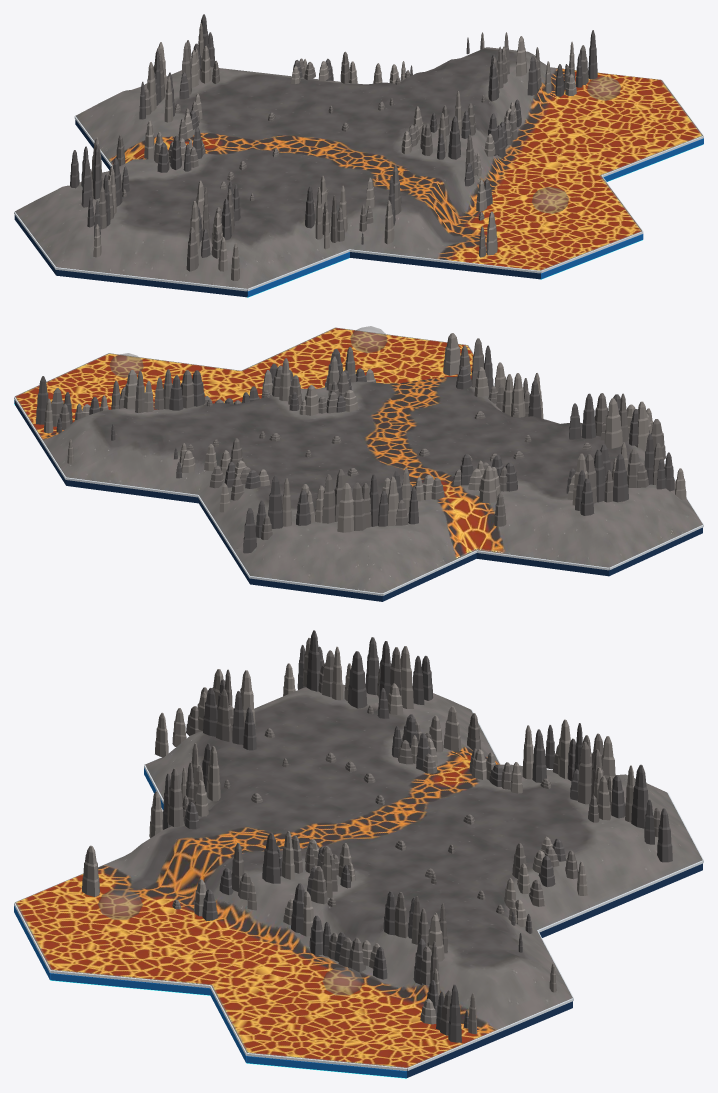
File: field_cm07_01.geometry-r2.glb
3 renders of one model, top to bottom at view 1: azimuth 30°, elevation 25°; view 2: azimuth 150°, elevation 25°; view 3: azimuth 270°, elevation 25°, orthographic. The views are drawn at different scales.
Visible parts, largest first — view 1: field_cm07_01-surface, crags-el-basalt, crags-el-basalt-light, crags-el-basalt-mid, field_cm07_01-foundation, volcano-smoke-0, volcano-rocks-joined, shallow-blue-fascia.003, shallow-blue-fascia.004, shallow-blue-fascia.001, volcano-smoke-1, flush-porcelain-joint.011 (+1 smaller); view 2: field_cm07_01-surface, crags-el-basalt-light, crags-el-basalt, crags-el-basalt-mid, field_cm07_01-foundation, volcano-rocks-joined, volcano-smoke-0, volcano-smoke-1; view 3: field_cm07_01-surface, crags-el-basalt, crags-el-basalt-light, crags-el-basalt-mid, field_cm07_01-foundation, volcano-rocks-joined, shallow-blue-fascia, shallow-blue-fascia.002, volcano-smoke-0, volcano-smoke-1.
Boxes of the visible parts, x1,y1,x2,y2 form: field_cm07_01-surface: (15, 47, 702, 288); crags-el-basalt: (70, 14, 597, 257); crags-el-basalt-light: (91, 23, 576, 280); crags-el-basalt-mid: (90, 32, 588, 271); field_cm07_01-foundation: (14, 119, 540, 297); volcano-smoke-0: (532, 187, 568, 213); volcano-rocks-joined: (122, 70, 485, 220); shallow-blue-fascia.003: (540, 234, 642, 279); shallow-blue-fascia.004: (247, 252, 349, 297); shallow-blue-fascia.001: (603, 138, 703, 181); volcano-smoke-1: (587, 76, 620, 100); flush-porcelain-joint.011: (349, 249, 540, 273); field_cm07_01-surface: (15, 327, 702, 593); crags-el-basalt-light: (44, 333, 686, 532); crags-el-basalt: (36, 345, 674, 553); crags-el-basalt-mid: (51, 338, 665, 540); field_cm07_01-foundation: (15, 401, 702, 601); volcano-rocks-joined: (187, 390, 591, 476); volcano-smoke-0: (350, 326, 387, 352); volcano-smoke-1: (109, 353, 143, 377); field_cm07_01-surface: (15, 684, 702, 1067); crags-el-basalt: (162, 630, 672, 1042); crags-el-basalt-light: (82, 646, 634, 1034); crags-el-basalt-mid: (85, 638, 660, 1035); field_cm07_01-foundation: (53, 863, 702, 1077); volcano-rocks-joined: (172, 705, 551, 913); shallow-blue-fascia: (246, 1056, 406, 1078); shallow-blue-fascia.002: (50, 973, 210, 995); volcano-smoke-0: (98, 889, 142, 919); volcano-smoke-1: (322, 967, 363, 995).
Size of the model in its own units: 19.17 by 2.53 by 14.93.
Materials: 9 (1 with a texture image).
